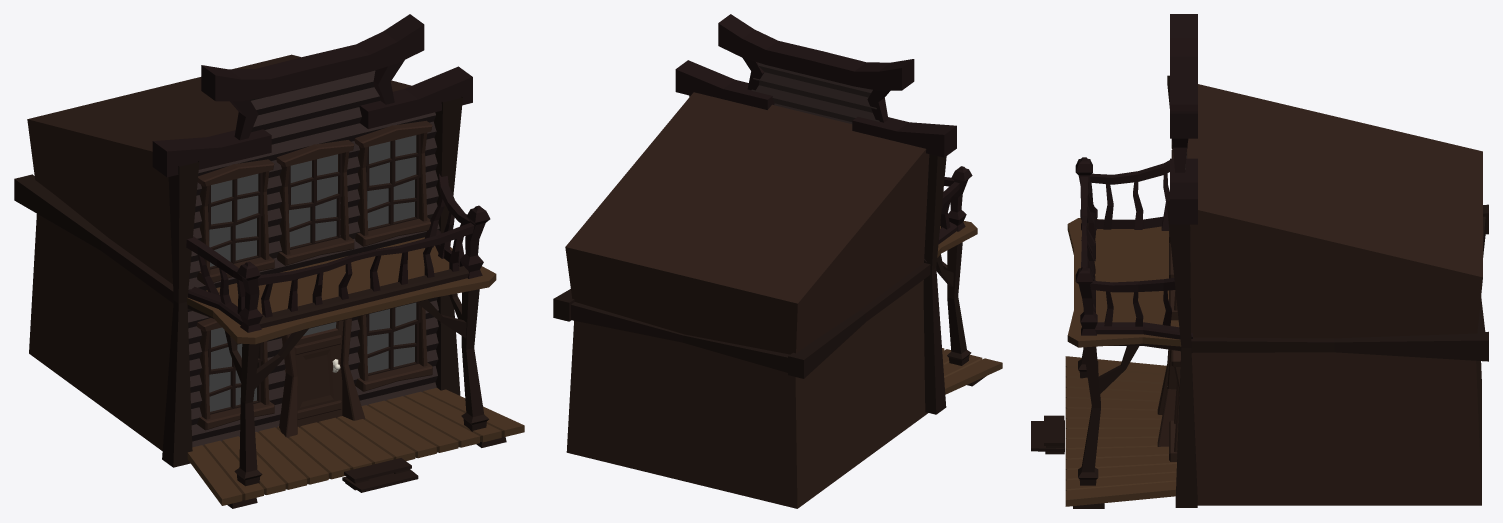
Rendered from Building04.fbx.
3 views of the same model, side by side, from view 1: azimuth 30°, elevation 25°; view 2: azimuth 150°, elevation 25°; view 3: azimuth 270°, elevation 25° (orthographic). The views are drawn at different scales.
Parts seen in each view (by area): view 1: Cube.028; view 2: Cube.028; view 3: Cube.028.
Boxes of the visible parts, box(x1,y1,x2,y2) form: Cube.028: box(14, 14, 524, 508); Cube.028: box(553, 14, 1002, 508); Cube.028: box(1031, 14, 1488, 508).
Bounding box in the file's own units: 559 × 680 × 743.
